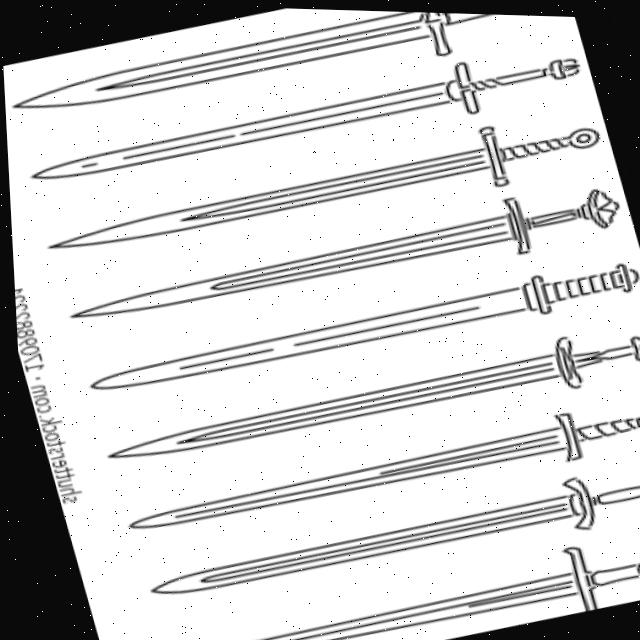knife: (65, 160, 640, 368), (44, 81, 619, 289), (71, 227, 640, 436), (31, 14, 601, 221), (93, 294, 640, 503), (110, 363, 640, 572), (127, 433, 640, 631), (14, 0, 583, 150), (140, 502, 640, 640)
